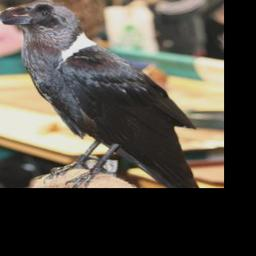Crow: (0, 0, 200, 187)
